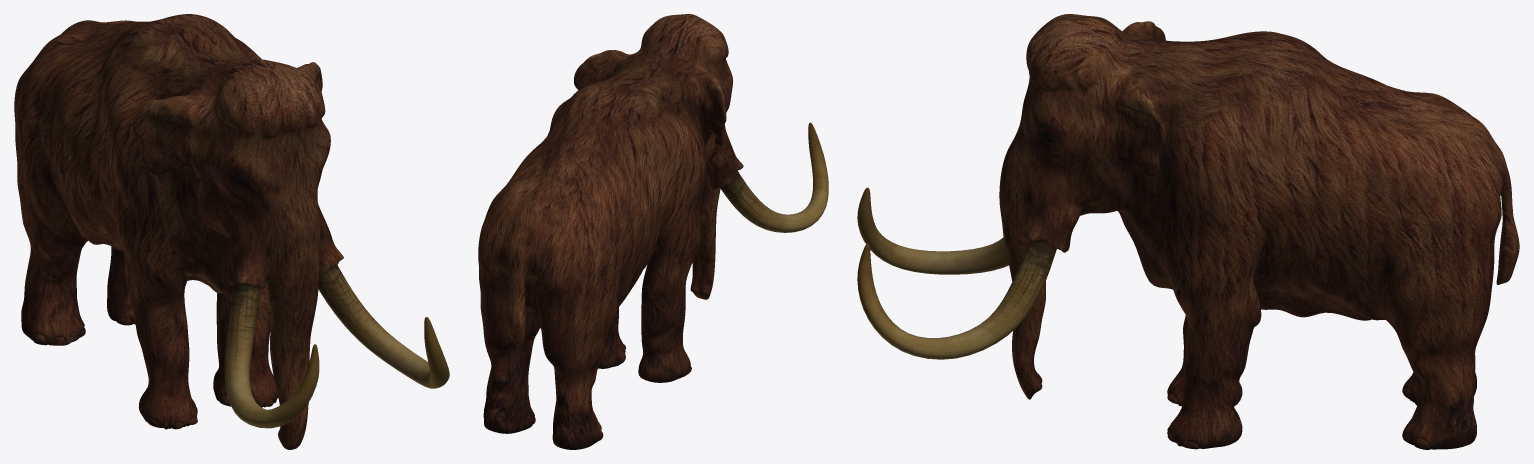
Rendered from mammoth.fbx.
The picture shows the model from 3 angles, left to right: view 1: azimuth 30°, elevation 25°; view 2: azimuth 150°, elevation 25°; view 3: azimuth 270°, elevation 25°; orthographic projection. The views are drawn at different scales.
Parts seen in each view (by area): view 1: 12229_mammmoth_v1_L3; view 2: 12229_mammmoth_v1_L3; view 3: 12229_mammmoth_v1_L3.
Boxes of the visible parts, left/top/right/bottom form: 12229_mammmoth_v1_L3: left=14, top=14, right=449, bottom=449; 12229_mammmoth_v1_L3: left=478, top=14, right=828, bottom=449; 12229_mammmoth_v1_L3: left=857, top=14, right=1519, bottom=449.
Bounding box in the file's own units: 86.8 × 168 × 251.
2 materials, 2 textured.
